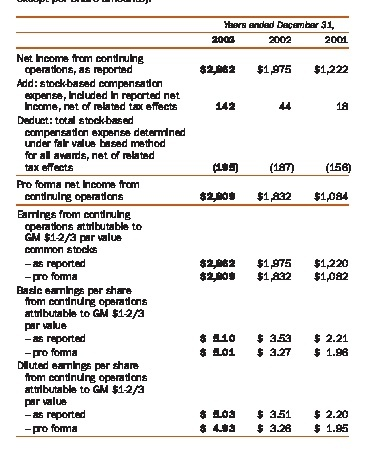table: (0, 0, 369, 454)
